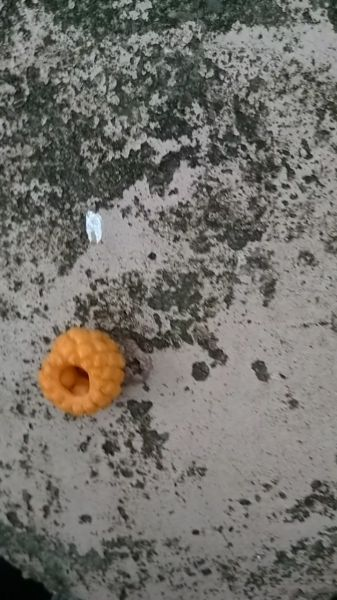eggs: (30, 322, 129, 416)
